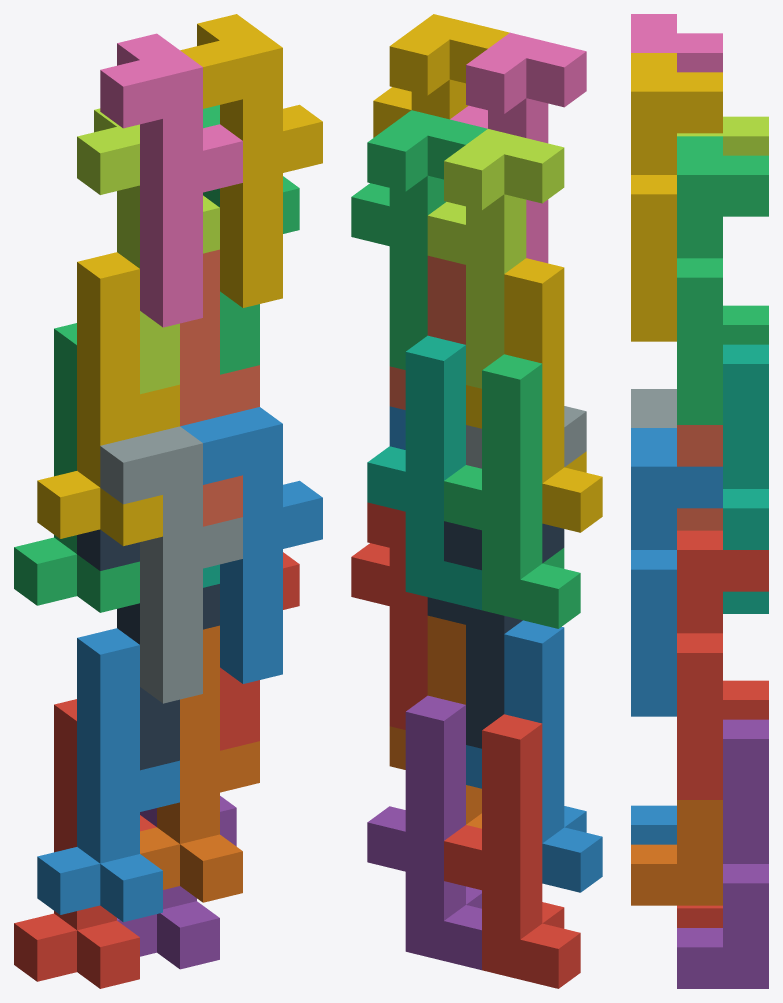
File: tiling.obj
The picture shows the model from 3 angles, left to right: view 1: azimuth 30°, elevation 25°; view 2: azimuth 150°, elevation 25°; view 3: azimuth 270°, elevation 25°; orthographic projection. The views are drawn at different scales.
Parts seen in each view (by area): view 1: copy_1_domain_2, copy_2_domain_4, copy_1_domain_4, copy_2_domain_8, copy_2_domain_2, copy_2_domain_6, copy_1_domain_6, copy_1_domain_1, copy_1_domain_3, copy_2_domain_3, copy_1_domain_8, copy_2_domain_1 (+3 smaller); view 2: copy_1_domain_1, copy_1_domain_3, copy_1_domain_5, copy_2_domain_3, copy_1_domain_7, copy_2_domain_7, copy_1_domain_2, copy_1_domain_4, copy_2_domain_4, copy_2_domain_5, copy_2_domain_8, copy_2_domain_1 (+4 smaller); view 3: copy_2_domain_7, copy_2_domain_8, copy_2_domain_6, copy_1_domain_5, copy_2_domain_5, copy_1_domain_7, copy_1_domain_6, copy_2_domain_4, copy_1_domain_8, copy_1_domain_1, copy_2_domain_3, copy_1_domain_2 (+2 smaller).
Part boxes in pixels (x1,y1,x2,y2): copy_1_domain_2: (37,628,179,922); copy_2_domain_4: (100,33,242,327); copy_1_domain_4: (37,252,179,546); copy_2_domain_8: (180,14,322,307); copy_2_domain_2: (100,426,242,703); copy_2_domain_6: (180,407,322,683); copy_1_domain_6: (140,625,259,902); copy_1_domain_1: (14,699,156,988); copy_1_domain_3: (14,323,139,612); copy_2_domain_3: (77,108,219,394); copy_1_domain_8: (180,249,259,526); copy_2_domain_1: (77,529,219,770); copy_1_domain_1: (444,714,580,988); copy_1_domain_3: (444,354,580,628); copy_1_domain_5: (367,695,481,970); copy_2_domain_3: (427,129,564,388); copy_1_domain_7: (367,335,481,610); copy_2_domain_7: (351,110,487,369); copy_1_domain_2: (466,620,602,892); copy_1_domain_4: (466,258,602,532); copy_2_domain_4: (450,32,586,263); copy_2_domain_5: (351,502,427,729); copy_2_domain_8: (373,14,509,137); copy_2_domain_1: (427,521,564,748); copy_2_domain_7: (677,136,768,424); copy_2_domain_8: (631,53,722,341); copy_2_domain_6: (631,428,722,716); copy_1_domain_5: (677,719,768,988); copy_2_domain_5: (677,530,768,799); copy_1_domain_7: (723,344,768,613); copy_1_domain_6: (631,800,722,905); copy_2_domain_4: (631,14,722,72); copy_1_domain_8: (677,425,722,530); copy_1_domain_1: (677,680,768,927); copy_2_domain_3: (677,116,768,155); copy_1_domain_2: (631,805,676,844).
Bounding box in the file's own units: 6 × 22 × 3.
